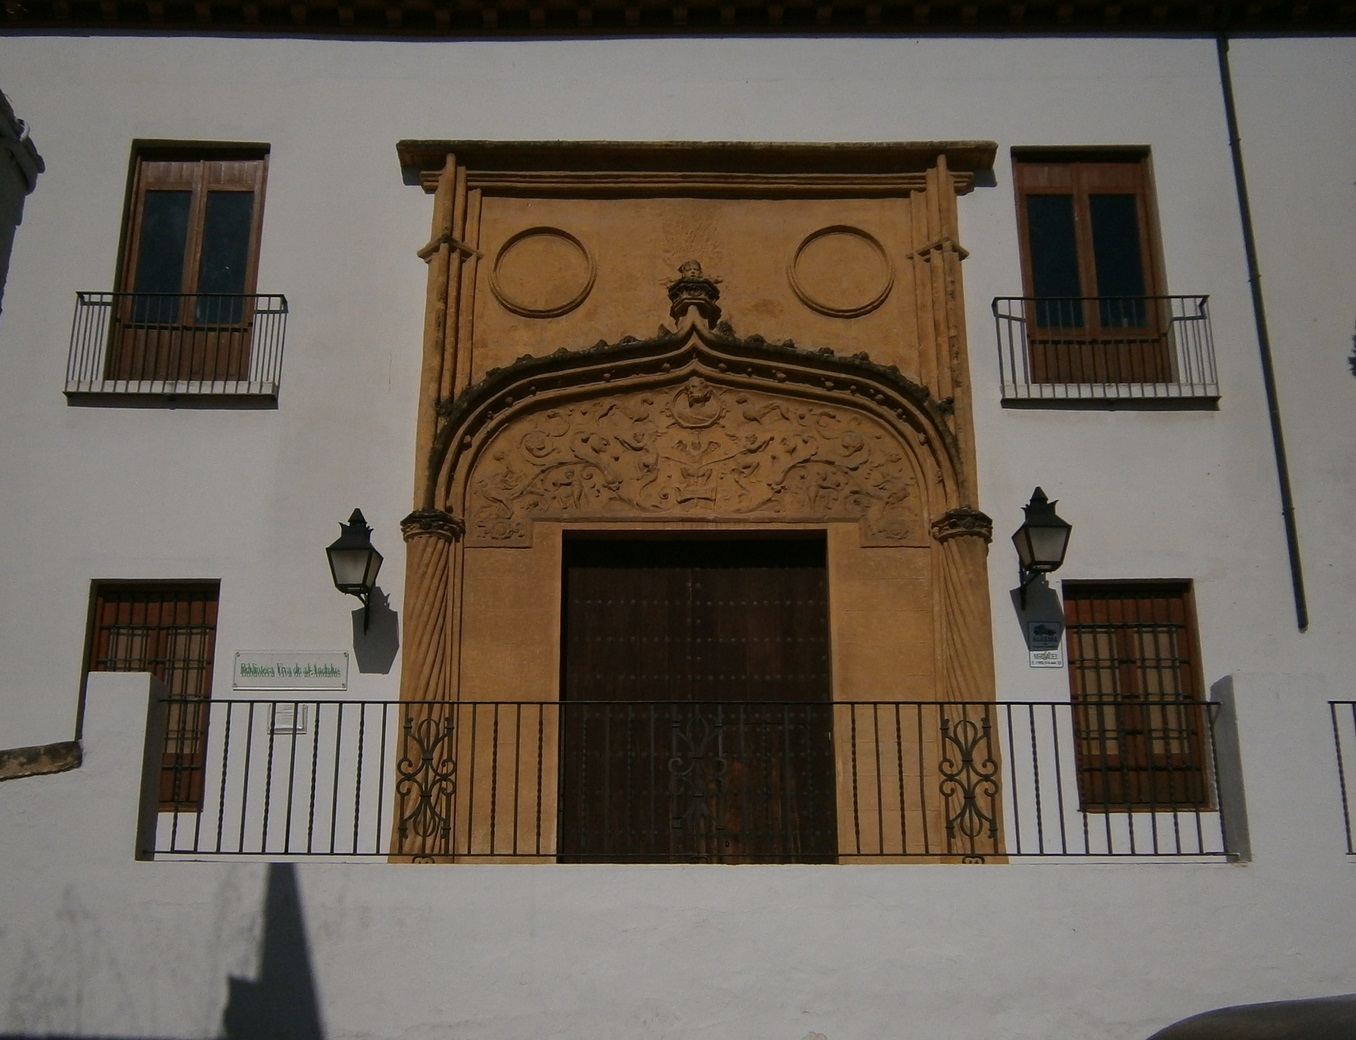arco-conopial: (423, 300, 964, 475)
